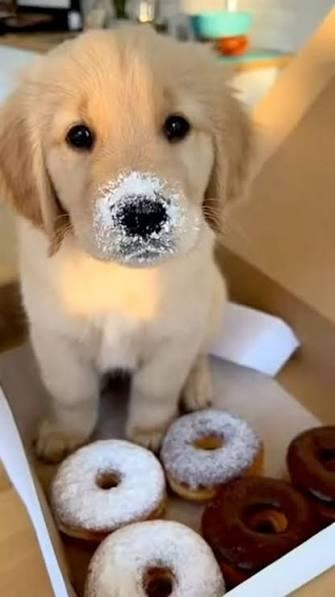puppy-dog: (0, 25, 253, 463)
